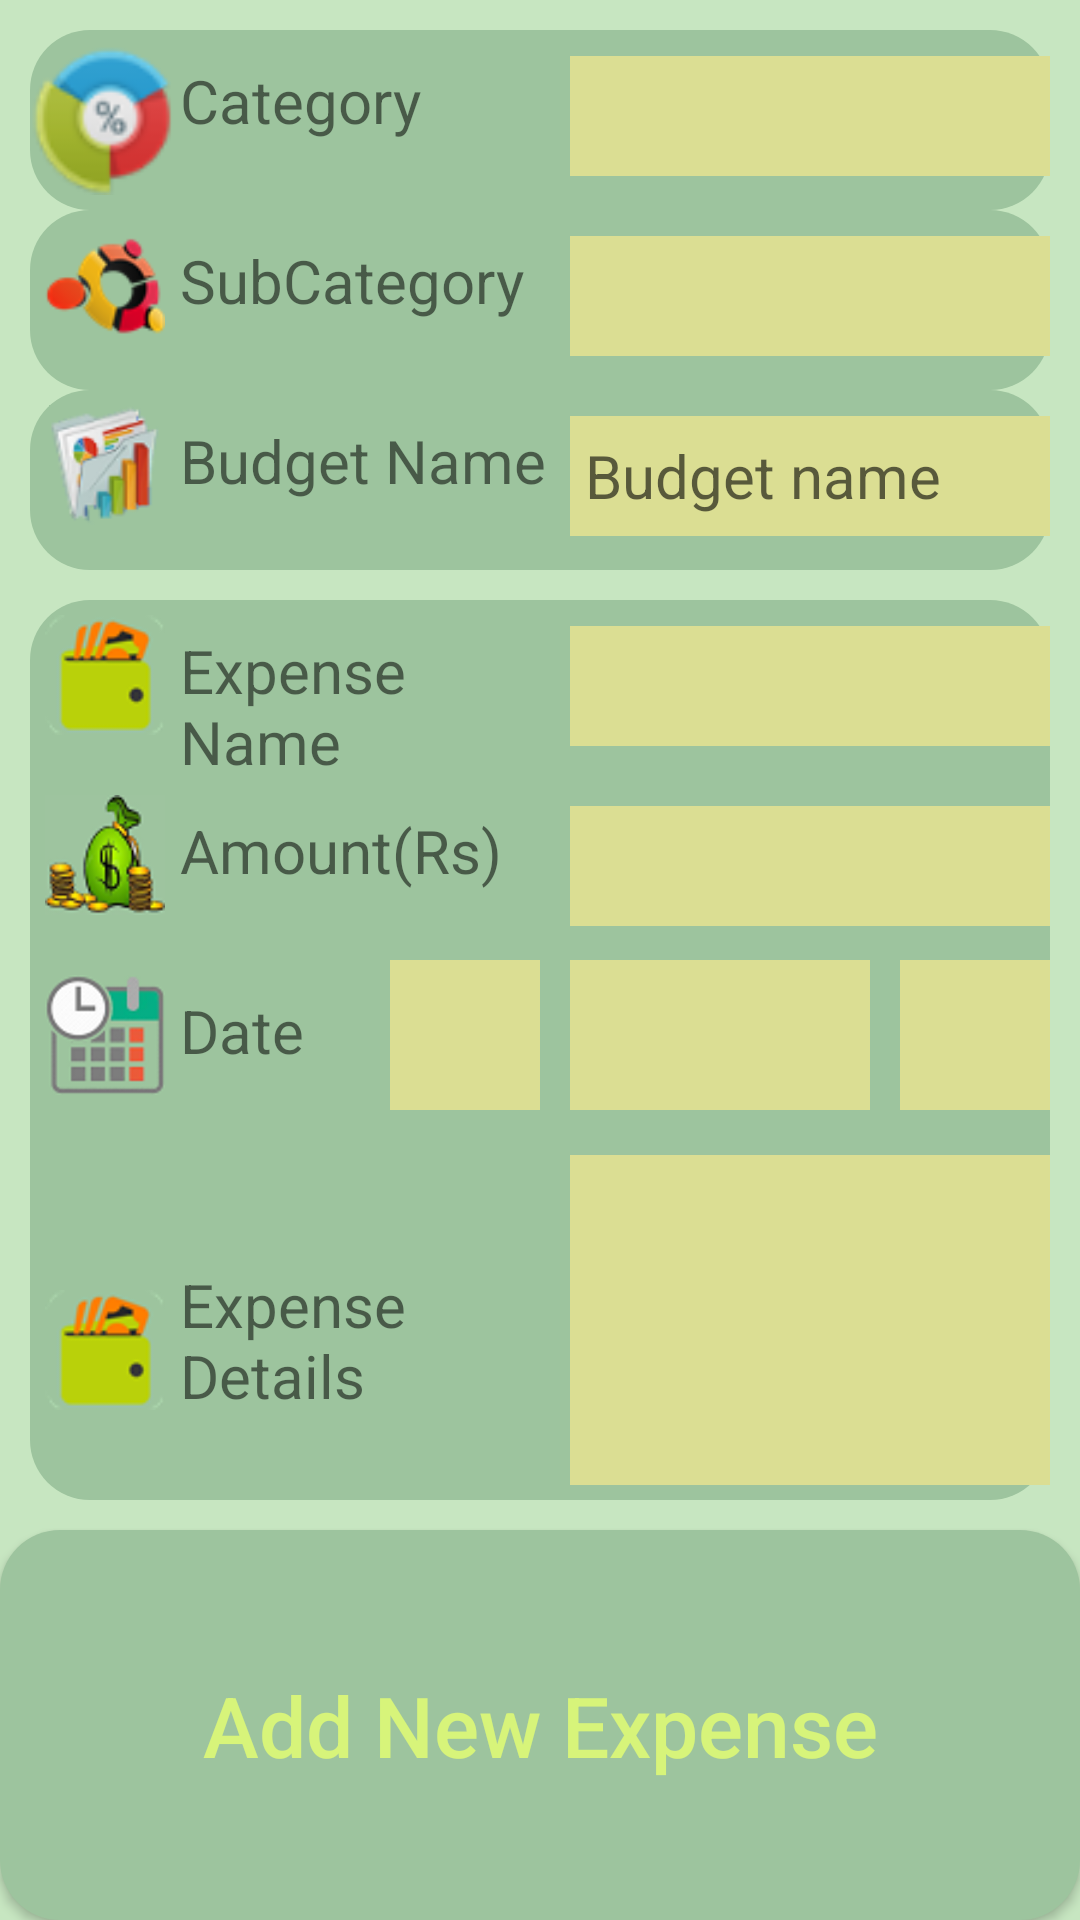

Named icons in this screenshot (1080 x 1920) and their bounding boxes, (x1, y1, x2, y2):
amountspent: (45, 795, 165, 913)
